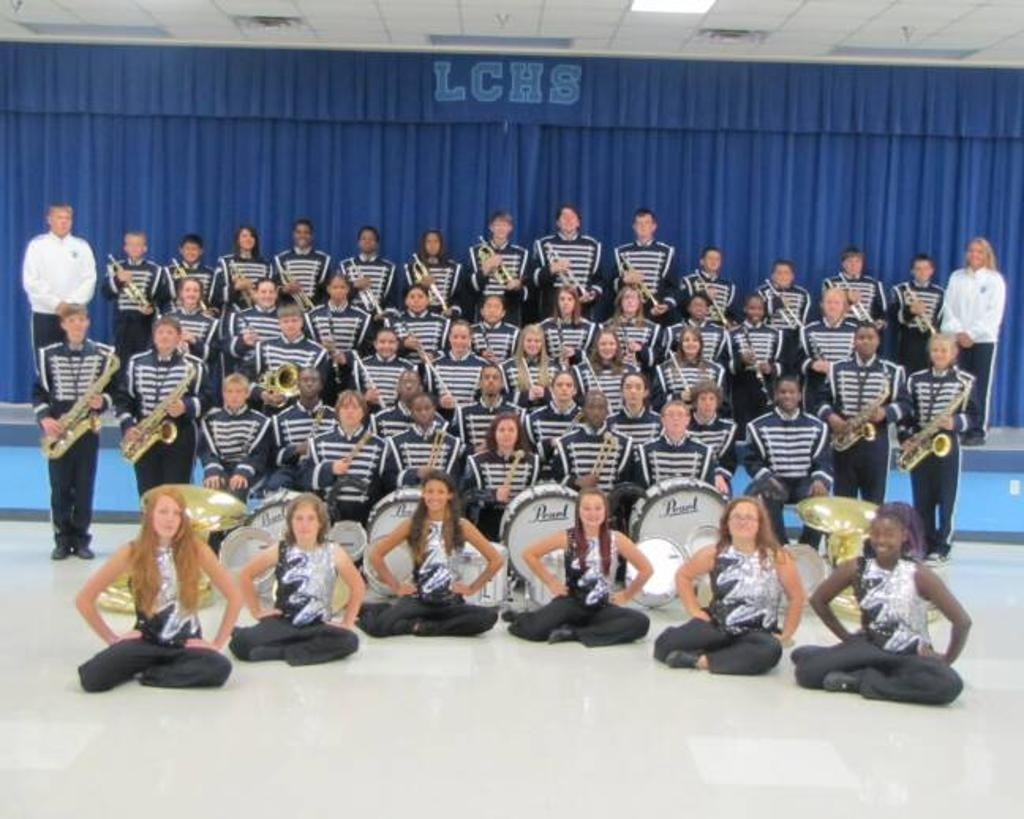human_face: (870, 518, 902, 556), (728, 501, 758, 538), (154, 494, 180, 536), (292, 506, 318, 540), (578, 494, 604, 526), (422, 479, 446, 510), (622, 376, 644, 404), (495, 419, 517, 447), (776, 382, 798, 410), (663, 404, 685, 432), (339, 396, 359, 425), (585, 394, 605, 423), (64, 310, 86, 336), (856, 326, 876, 354), (154, 324, 178, 346), (50, 208, 70, 234), (377, 330, 397, 356), (400, 372, 420, 398), (481, 367, 501, 393), (930, 339, 950, 365), (225, 382, 245, 406), (298, 370, 318, 394), (412, 397, 432, 421), (450, 324, 468, 350), (554, 373, 572, 399), (482, 298, 502, 320), (598, 334, 616, 358), (682, 331, 700, 355), (698, 391, 716, 415), (182, 240, 200, 262), (559, 209, 577, 231), (622, 290, 640, 312), (824, 294, 842, 316), (182, 280, 198, 304), (331, 276, 347, 300), (524, 331, 540, 355), (747, 298, 763, 322), (258, 282, 272, 308), (124, 234, 142, 254), (280, 315, 298, 335), (239, 228, 255, 250), (408, 289, 424, 311), (558, 291, 574, 313), (634, 214, 650, 236), (294, 224, 310, 244), (492, 218, 508, 238), (704, 250, 720, 270), (774, 264, 790, 284), (968, 243, 982, 265), (360, 230, 376, 248), (844, 255, 860, 273), (914, 260, 930, 278), (691, 297, 705, 317), (426, 233, 438, 255)
